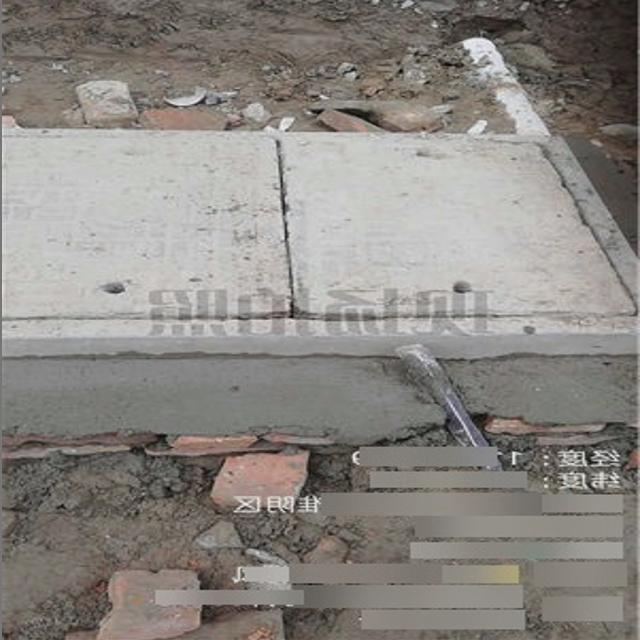good: (2, 126, 638, 354)
